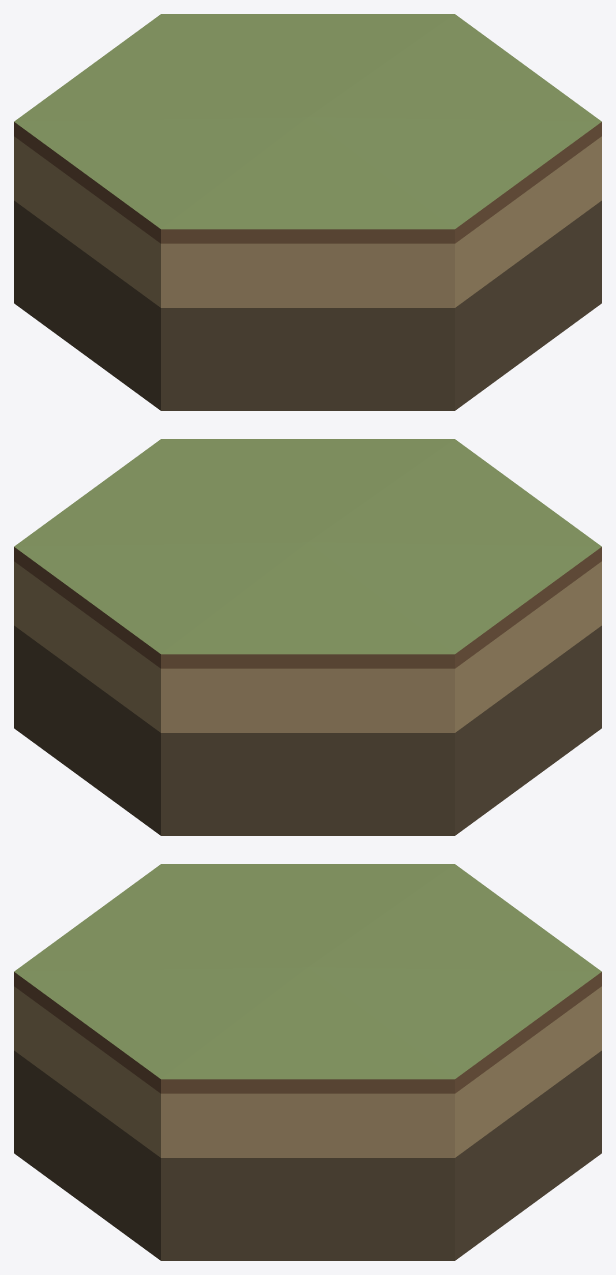
File: AW-HEX-FOREST-v0.1.glb
3 renders of one model, top to bottom at view 1: azimuth 30°, elevation 25°; view 2: azimuth 150°, elevation 25°; view 3: azimuth 270°, elevation 25°, orthographic.
Visible parts, largest first — view 1: AW-HEX-FOREST-v01; view 2: AW-HEX-FOREST-v01; view 3: AW-HEX-FOREST-v01.
Boxes of the visible parts, bbox=[...] form: AW-HEX-FOREST-v01: bbox=[14, 14, 601, 410]; AW-HEX-FOREST-v01: bbox=[14, 439, 601, 835]; AW-HEX-FOREST-v01: bbox=[14, 864, 601, 1260].
Size of the model in its own units: 3.81 by 1.54 by 4.4.
